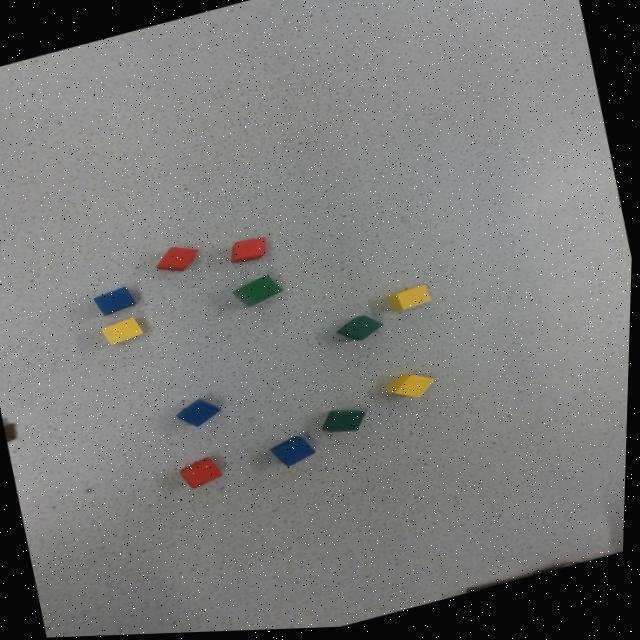blue_cube: (178, 392, 224, 434), (272, 431, 318, 472), (95, 284, 138, 318)
green_cube: (339, 309, 386, 351), (236, 272, 284, 311), (325, 411, 368, 434)
red_cube: (182, 455, 224, 492), (159, 246, 200, 272), (231, 239, 269, 263)
yellow_cube: (388, 372, 436, 403), (104, 314, 145, 346), (389, 287, 432, 314)
